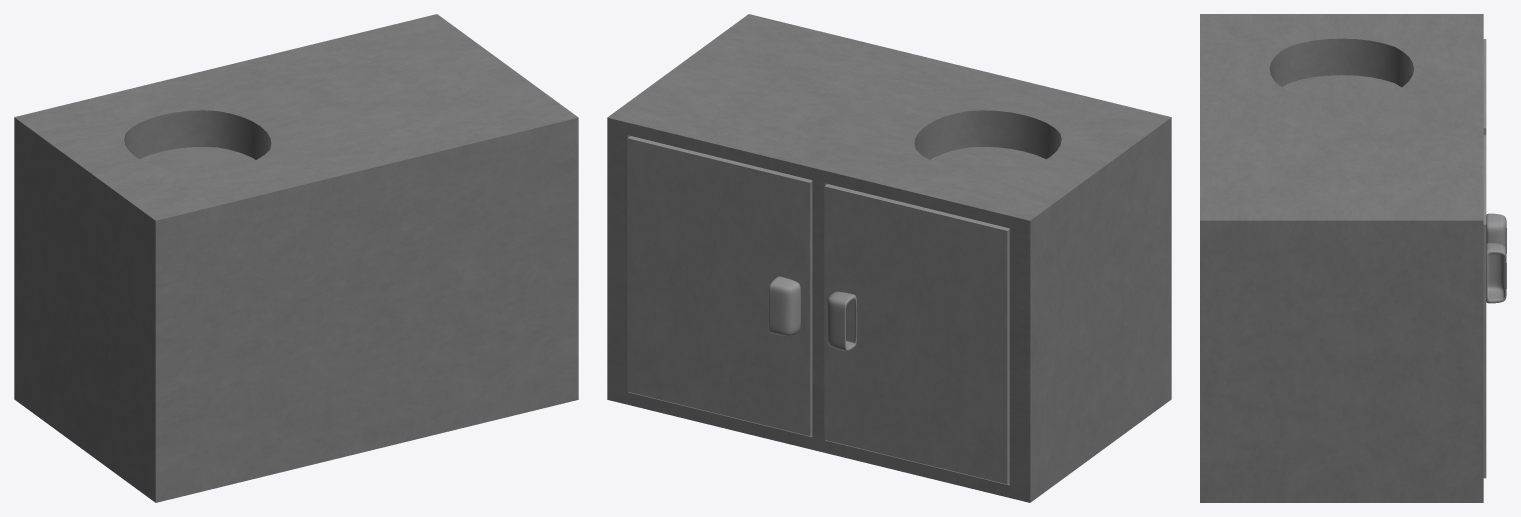
File: dispenser.fbx
3 views of the same model, side by side, from view 1: azimuth 30°, elevation 25°; view 2: azimuth 150°, elevation 25°; view 3: azimuth 270°, elevation 25° (orthographic).
Visible parts, largest first — view 1: Cube.014; view 2: Cube.014; view 3: Cube.014.
Boxes of the visible parts, x1,y1,x2,y2 form: Cube.014: (14, 14, 578, 502); Cube.014: (607, 14, 1171, 502); Cube.014: (1200, 14, 1506, 502).
Bounding box in the file's own units: 586 × 373 × 368.
